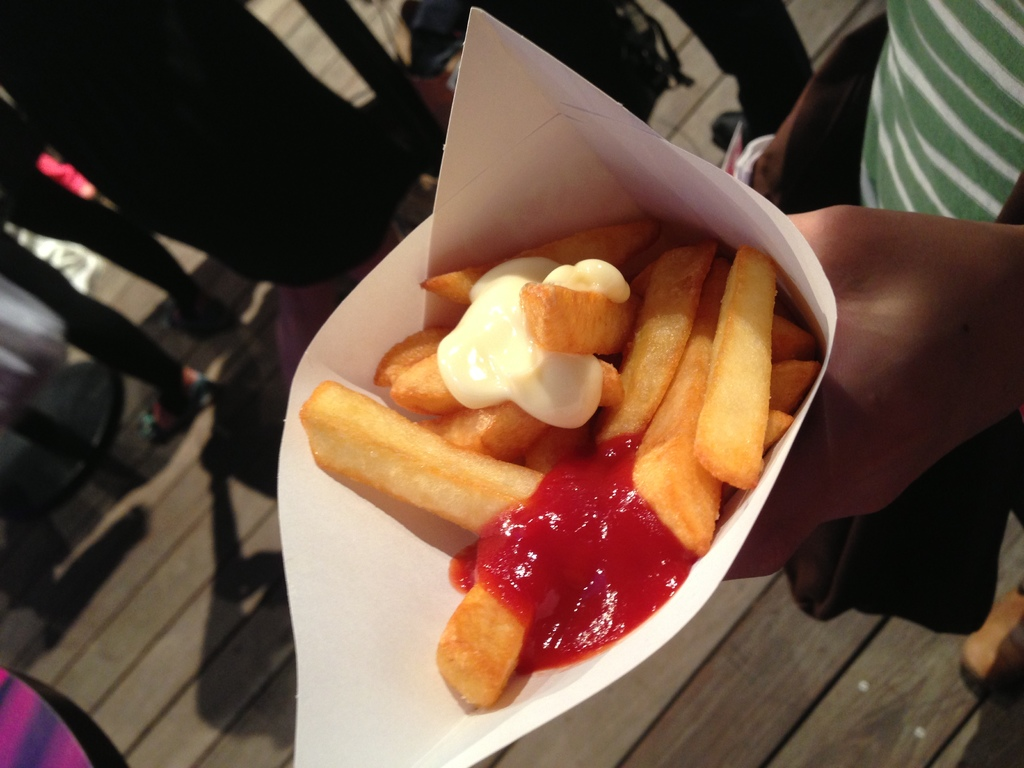French fries: (294, 215, 812, 707)
